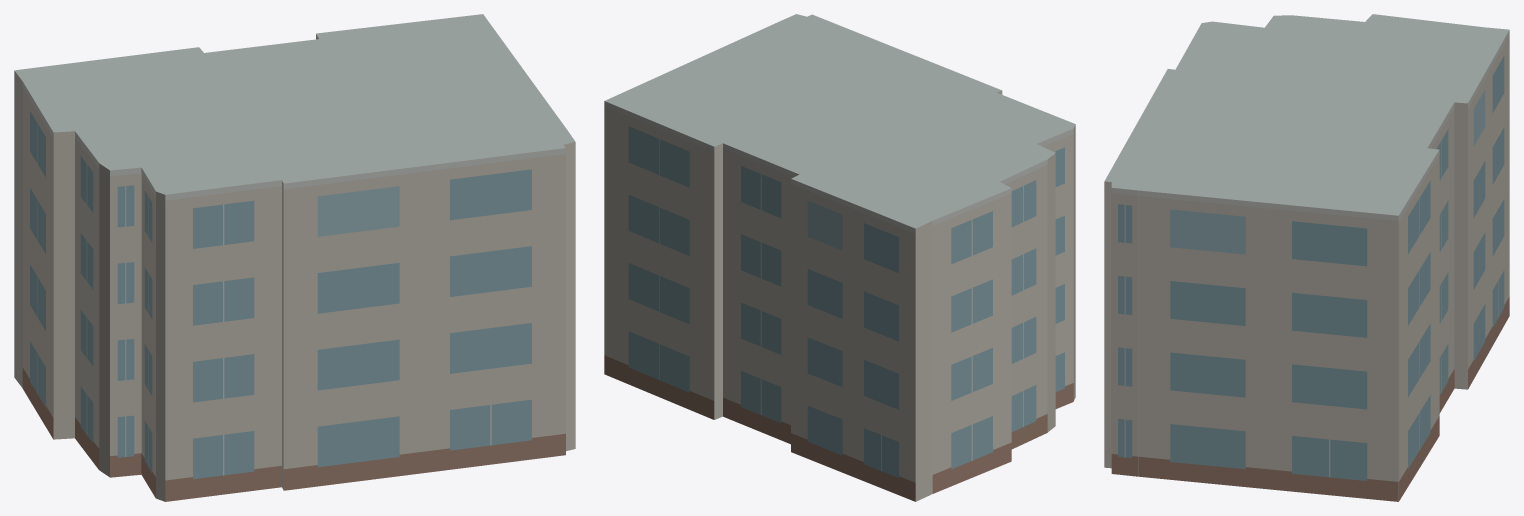
The model's file is survey-upis-32535879.glb.
3 views of the same model, side by side, from view 1: azimuth 30°, elevation 25°; view 2: azimuth 150°, elevation 25°; view 3: azimuth 270°, elevation 25° (orthographic). The views are drawn at different scales.
Visible parts, largest first — view 1: survey-upis-32535879.tmp; view 2: survey-upis-32535879.tmp; view 3: survey-upis-32535879.tmp.
Part boxes in pixels (<box>): survey-upis-32535879.tmp: <box>14,14,575,501</box>; survey-upis-32535879.tmp: <box>604,14,1075,501</box>; survey-upis-32535879.tmp: <box>1104,14,1509,501</box>.
Size of the model in its own units: 19.66 by 13 by 16.7.
